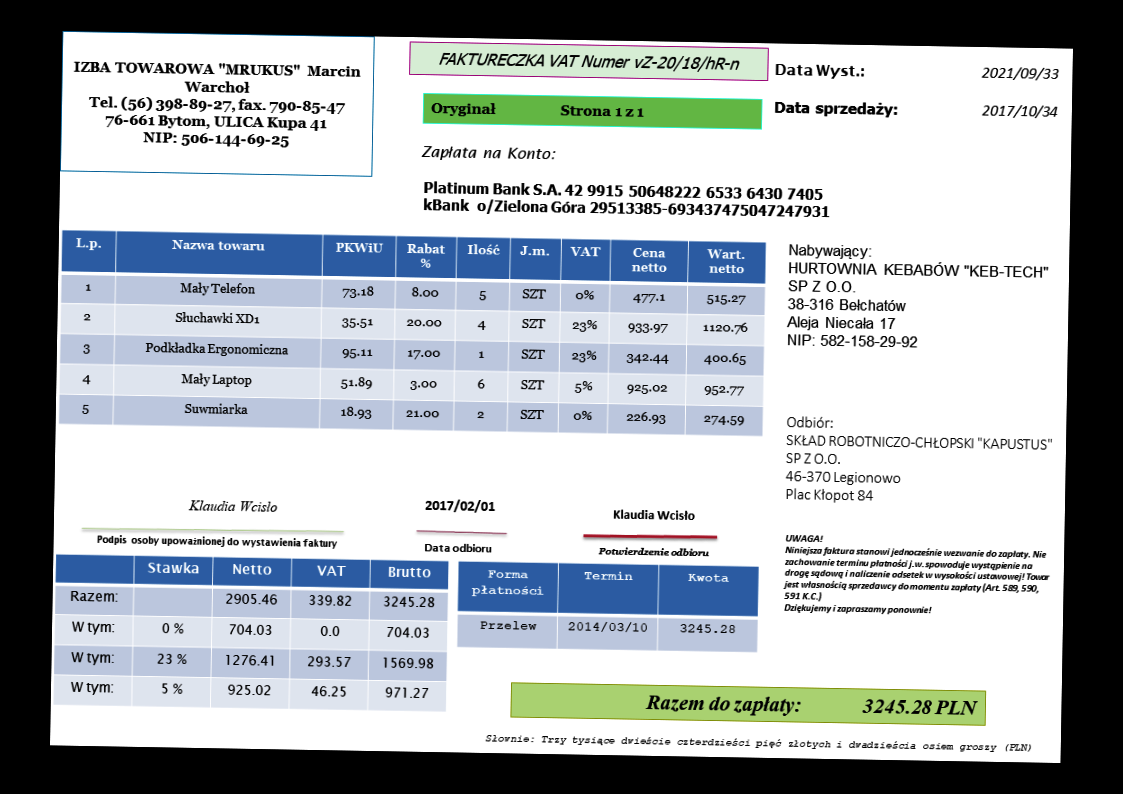Table: (57, 228, 767, 438), (52, 553, 448, 714), (455, 559, 761, 654)
TextBox: (785, 241, 1052, 353), (69, 56, 362, 153), (783, 414, 1056, 509), (780, 530, 1054, 621), (419, 178, 831, 221), (482, 731, 1035, 755), (644, 691, 979, 722), (435, 48, 743, 74), (428, 97, 646, 122), (95, 532, 341, 552), (419, 141, 558, 165), (770, 96, 901, 121), (774, 60, 868, 82), (596, 543, 711, 560), (185, 495, 279, 515), (979, 62, 1060, 84), (979, 100, 1059, 120), (421, 496, 498, 516), (609, 507, 696, 524), (421, 540, 492, 555)
